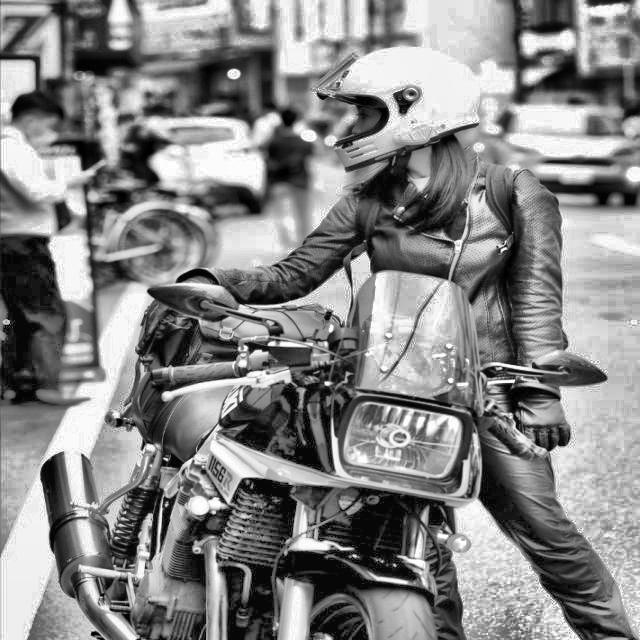Helmet: (308, 41, 486, 178)
